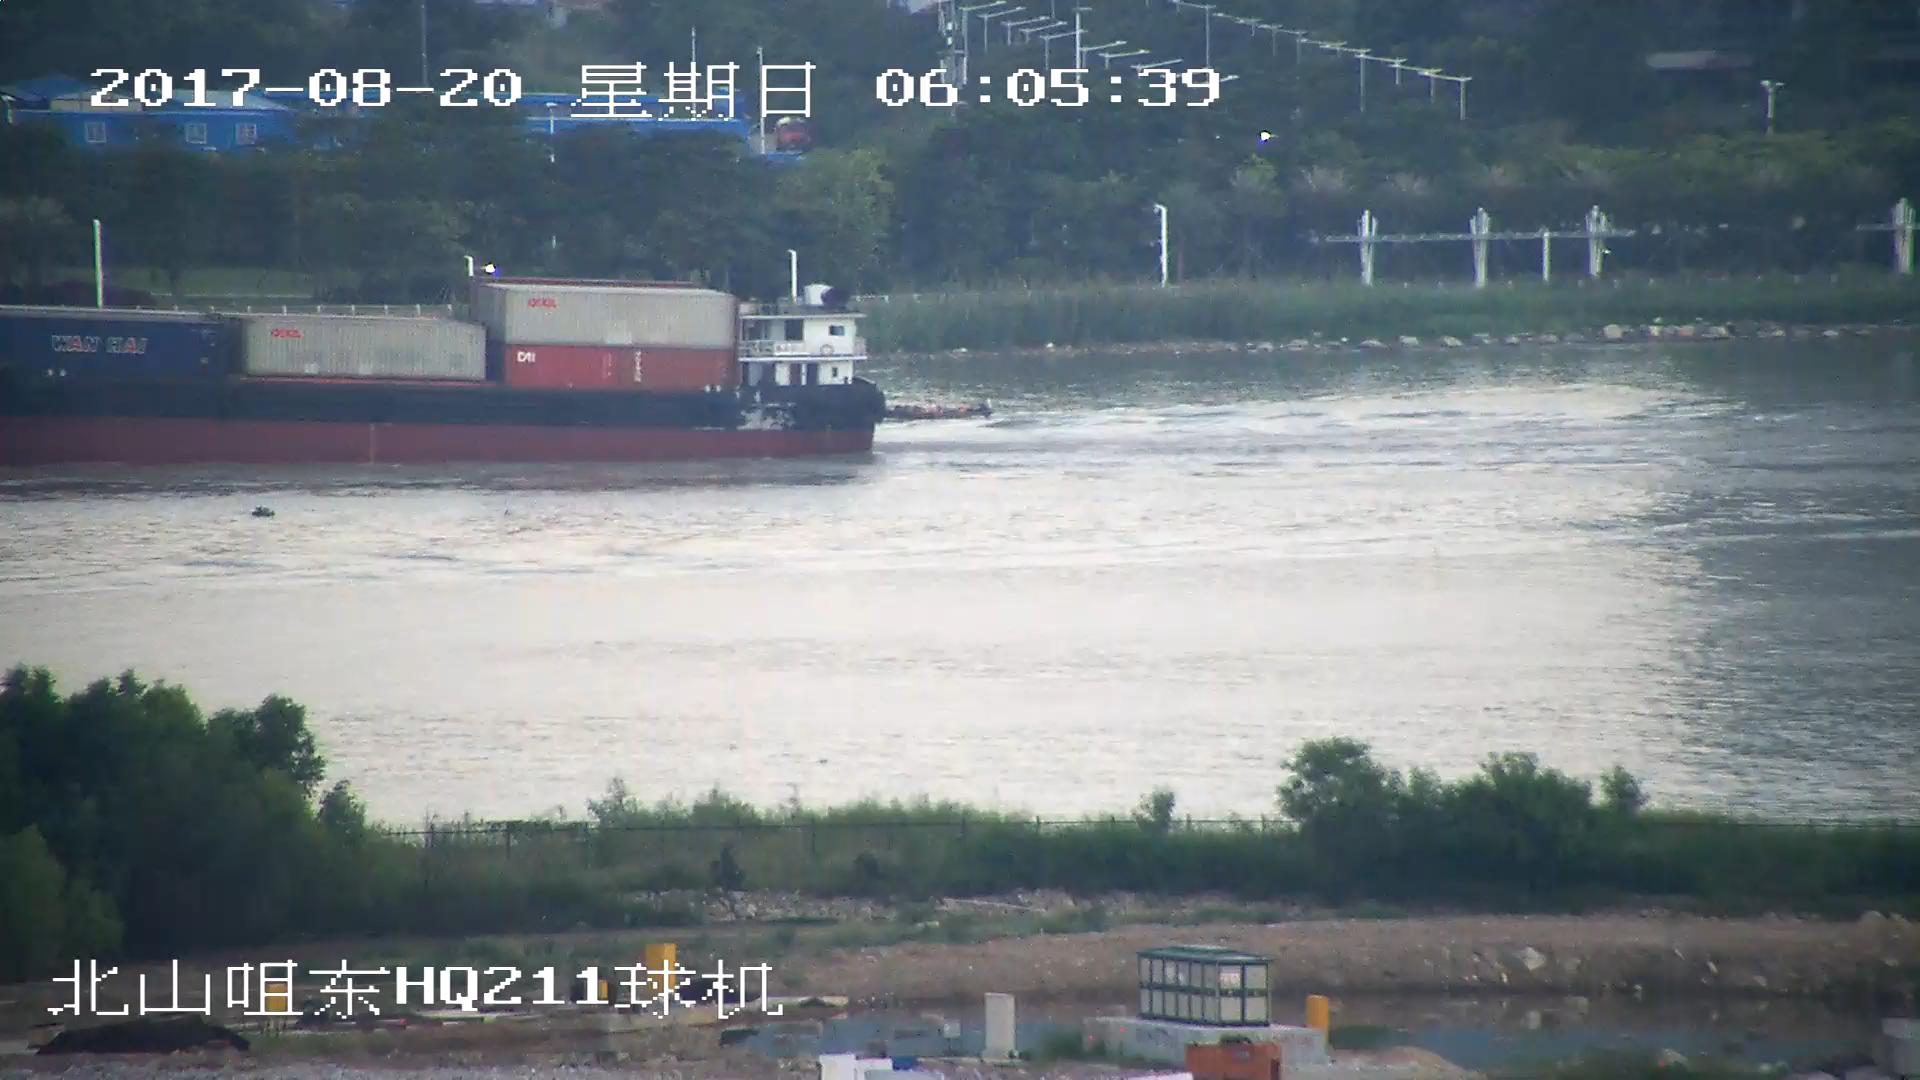container ship: (1, 281, 884, 473)
